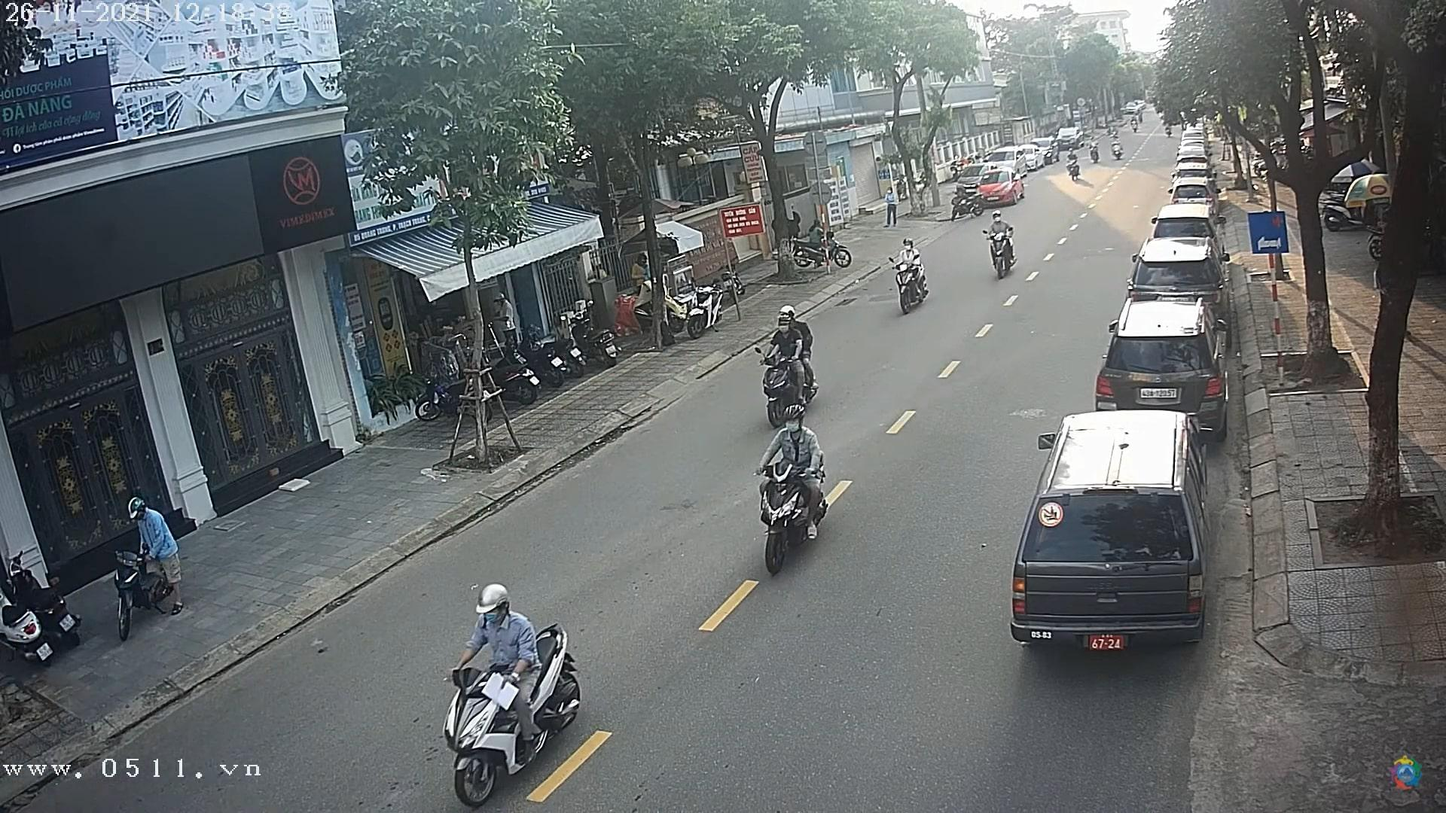car: (1013, 413, 1209, 649), (1095, 294, 1230, 420), (1132, 215, 1223, 294), (974, 168, 1026, 203), (1170, 181, 1215, 207)
motorbike: (439, 621, 588, 812), (755, 456, 831, 580), (754, 340, 822, 430), (889, 256, 932, 316), (984, 224, 1019, 279)
